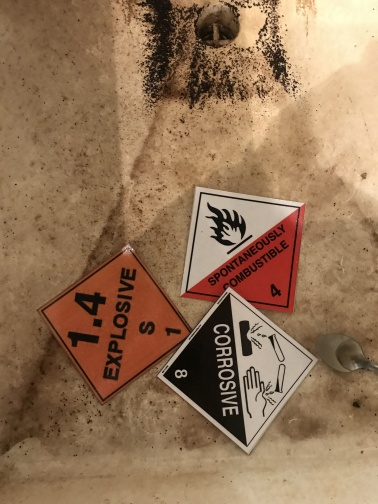Corrosive: (161, 289, 312, 458)
Explosive: (37, 244, 191, 401)
SpontaneouslyCombustible: (181, 186, 304, 314)
